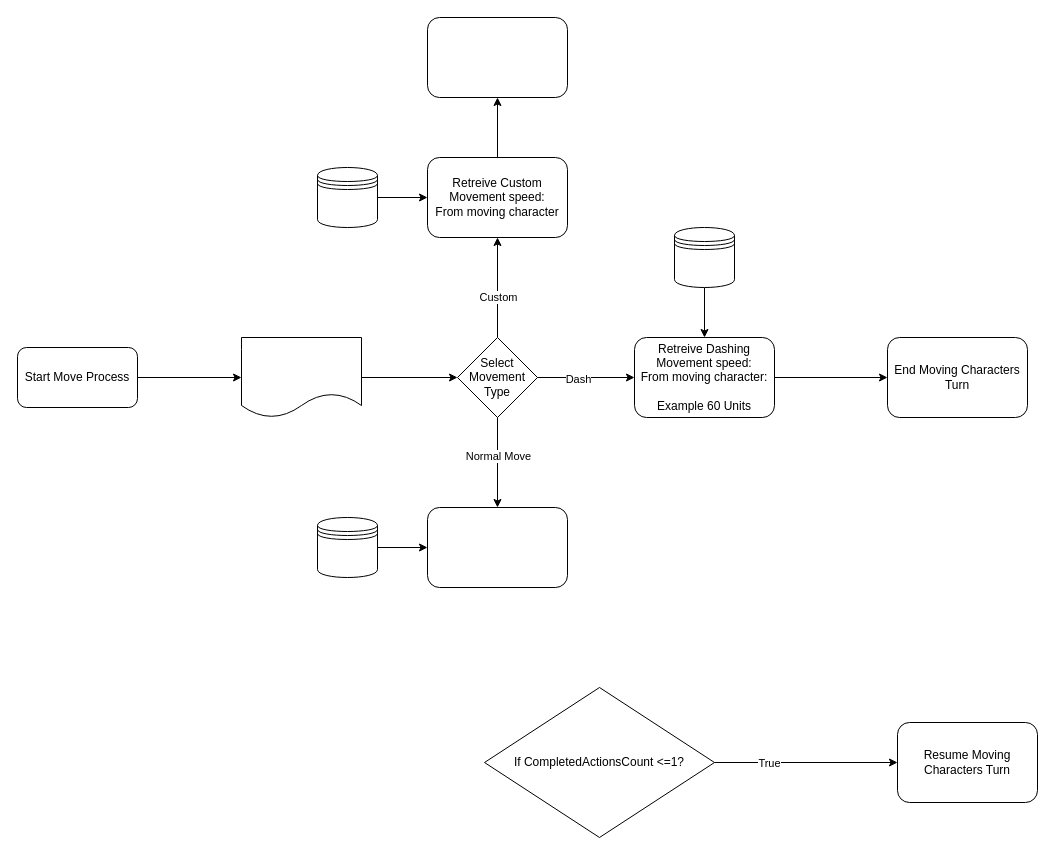
Some shapes in this 1055 by 855 pixel diagram are drawn without their labels. Here are the shapes that lost their labels. From the top down, the centre of each, then its label:
point 497,57: ?Not Sure? Continue Turn?
point 301,377: Prompt User with movement choice (Normal Move, Dash, Custom, etc)
point 497,547: Retreive Default Movement speed: From moving character: Example 30 Units
